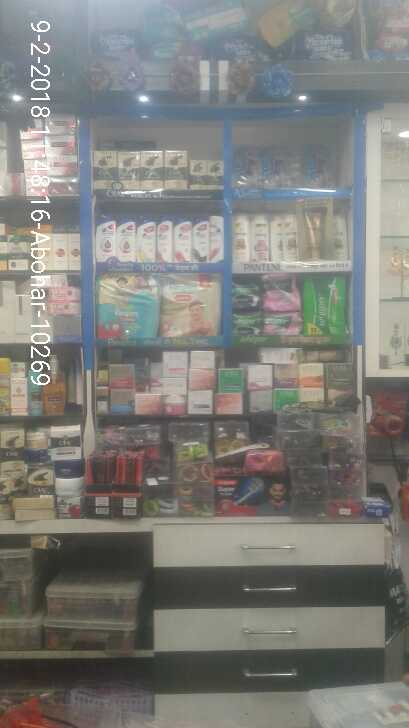venus: (296, 143, 328, 187), (235, 146, 264, 186), (264, 146, 290, 188)
